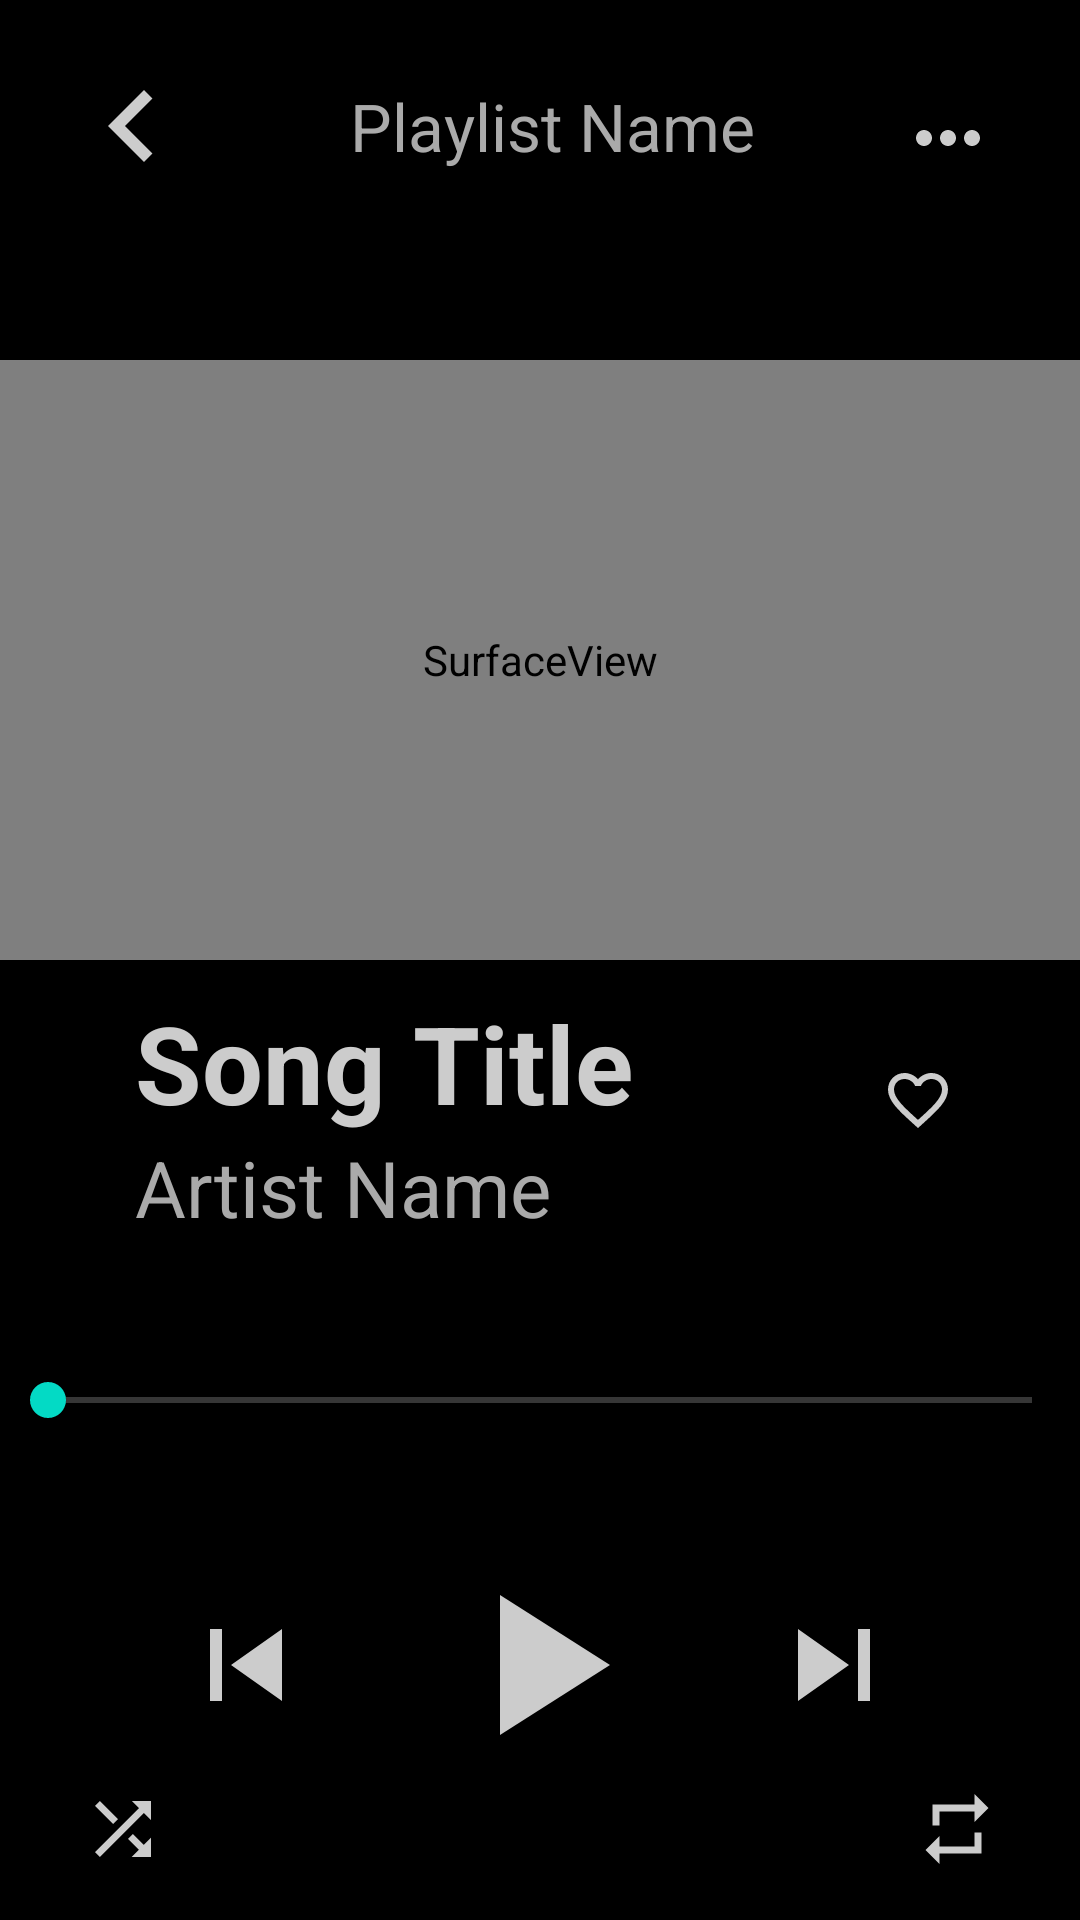

Where icons sit on this 1080 x 1920 app screen, as detection(x1, y1, x2, y2):
back arrow: detection(108, 90, 153, 162)
favorite unfilled: detection(888, 1073, 948, 1128)
options: detection(916, 130, 980, 146)
play: detection(500, 1595, 610, 1735)
repeat: detection(926, 1794, 988, 1864)
shuffle: detection(95, 1801, 151, 1857)
skip next: detection(798, 1629, 870, 1701)
skip previous: detection(210, 1629, 282, 1701)
